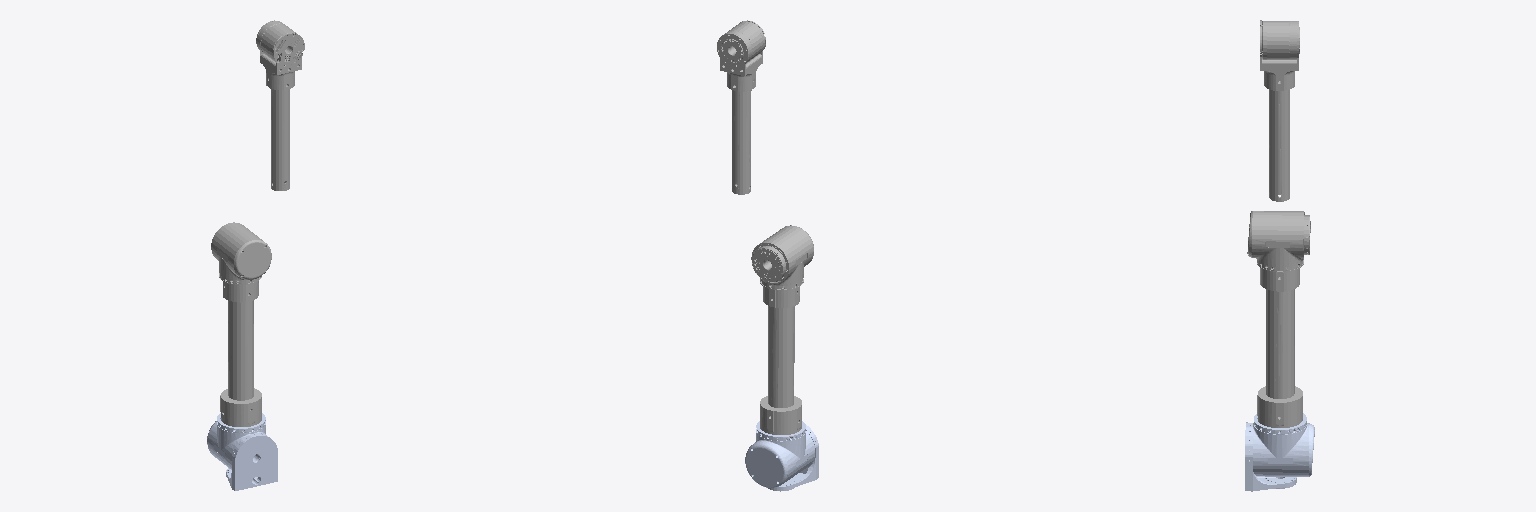
robot.urdf — plex_arm_2:
<?xml version="1.0" encoding="utf-8"?>
<!-- This URDF was automatically created by SolidWorks to URDF Exporter! Originally created by Stephen Brawner (brawner@gmail.com) 
     Commit Version: 1.6.0-4-g7f85cfe  Build Version: 1.6.7995.38578
     For more information, please see http://wiki.ros.org/sw_urdf_exporter -->
<robot
  name="plex_arm_2">
  <link
    name="base_link">
    <inertial>
      <origin
        xyz="0.0013285 -0.0013224 0.037461"
        rpy="0 0 0" />
      <mass
        value="0.39916" />
      <inertia
        ixx="0.00032485"
        ixy="5.025E-08"
        ixz="-2.2819E-07"
        iyy="0.00032522"
        iyz="-1.8676E-07"
        izz="0.00048667" />
    </inertial>
    <visual>
      <origin
        xyz="0 0 0"
        rpy="0 0 0" />
      <geometry>
        <mesh
          filename="package://plex_arm_2/meshes/base_link.STL" />
      </geometry>
      <material
        name="">
        <color
          rgba="0.75294 0.75294 0.75294 1" />
      </material>
    </visual>
    <collision>
      <origin
        xyz="0 0 0"
        rpy="0 0 0" />
      <geometry>
        <mesh
          filename="package://plex_arm_2/meshes/base_link.STL" />
      </geometry>
    </collision>
  </link>
  <link
    name="link_2">
    <inertial>
      <origin
        xyz="6.3613E-05 -0.016265 0.055354"
        rpy="0 0 0" />
      <mass
        value="1.0133" />
      <inertia
        ixx="0.0014695"
        ixy="-6.0098E-08"
        ixz="5.8462E-08"
        iyy="0.0014982"
        iyz="0.00010509"
        izz="0.0013838" />
    </inertial>
    <visual>
      <origin
        xyz="0 0 0"
        rpy="0 0 0" />
      <geometry>
        <mesh
          filename="package://plex_arm_2/meshes/link_2.STL" />
      </geometry>
      <material
        name="">
        <color
          rgba="0.86667 0.9098 1 1" />
      </material>
    </visual>
    <collision>
      <origin
        xyz="0 0 0"
        rpy="0 0 0" />
      <geometry>
        <mesh
          filename="package://plex_arm_2/meshes/link_2.STL" />
      </geometry>
    </collision>
  </link>
  <joint
    name="joint_2"
    type="revolute">
    <origin
      xyz="0.0013509 -0.0013066 0.0641"
      rpy="0 -0.0012835 -0.027488" />
    <parent
      link="base_link" />
    <child
      link="link_2" />
    <axis
      xyz="0.0012835 0 1" />
    <limit
      lower="0"
      upper="0"
      effort="0"
      velocity="0" />
  </joint>
  <link
    name="link_3">
    <inertial>
      <origin
        xyz="0.00048454 0.0020711 -0.10143"
        rpy="0 0 0" />
      <mass
        value="1.3505" />
      <inertia
        ixx="0.0032252"
        ixy="3.0835E-07"
        ixz="9.0245E-06"
        iyy="0.003211"
        iyz="-1.0066E-05"
        izz="0.0013126" />
    </inertial>
    <visual>
      <origin
        xyz="0 0 0"
        rpy="0 0 0" />
      <geometry>
        <mesh
          filename="package://plex_arm_2/meshes/link_3.STL" />
      </geometry>
      <material
        name="">
        <color
          rgba="0.75294 0.75294 0.75294 1" />
      </material>
    </visual>
    <collision>
      <origin
        xyz="0 0 0"
        rpy="0 0 0" />
      <geometry>
        <mesh
          filename="package://plex_arm_2/meshes/link_3.STL" />
      </geometry>
    </collision>
  </link>
  <joint
    name="joint_3"
    type="revolute">
    <origin
      xyz="-0.0011924 0 0.4323"
      rpy="0 0.0012835 0" />
    <parent
      link="link_2" />
    <child
      link="link_3" />
    <axis
      xyz="0 -1 0" />
    <limit
      lower="0"
      upper="0"
      effort="0"
      velocity="0" />
  </joint>
  <link
    name="link_4">
    <inertial>
      <origin
        xyz="-0.010201 0.01352 0.028625"
        rpy="0 0 0" />
      <mass
        value="0.53981" />
      <inertia
        ixx="0.00043641"
        ixy="6.5099E-07"
        ixz="-0.00011755"
        iyy="0.00066866"
        iyz="3.5023E-06"
        izz="0.00061134" />
    </inertial>
    <visual>
      <origin
        xyz="0 0 0"
        rpy="0 0 0" />
      <geometry>
        <mesh
          filename="package://plex_arm_2/meshes/link_4.STL" />
      </geometry>
      <material
        name="">
        <color
          rgba="0.75294 0.75294 0.75294 1" />
      </material>
    </visual>
    <collision>
      <origin
        xyz="0 0 0"
        rpy="0 0 0" />
      <geometry>
        <mesh
          filename="package://plex_arm_2/meshes/link_4.STL" />
      </geometry>
    </collision>
  </link>
  <joint
    name="joint_4"
    type="revolute">
    <origin
      xyz="0.089987 0.0015 0.090304"
      rpy="0 0 0" />
    <parent
      link="link_3" />
    <child
      link="link_4" />
    <axis
      xyz="0 -1 0" />
    <limit
      lower="0"
      upper="0"
      effort="0"
      velocity="0" />
  </joint>
  <link
    name="link_5">
    <inertial>
      <origin
        xyz="-5.2719E-06 0.0036972 -0.068702"
        rpy="0 0 0" />
      <mass
        value="0.56411" />
      <inertia
        ixx="0.0011591"
        ixy="-2.4169E-07"
        ixz="3.1175E-07"
        iyy="0.0011689"
        iyz="4.9596E-07"
        izz="0.00028591" />
    </inertial>
    <visual>
      <origin
        xyz="0 0 0"
        rpy="0 0 0" />
      <geometry>
        <mesh
          filename="package://plex_arm_2/meshes/link_5.STL" />
      </geometry>
      <material
        name="">
        <color
          rgba="0.75294 0.75294 0.75294 1" />
      </material>
    </visual>
    <collision>
      <origin
        xyz="0 0 0"
        rpy="0 0 0" />
      <geometry>
        <mesh
          filename="package://plex_arm_2/meshes/link_5.STL" />
      </geometry>
    </collision>
  </link>
  <joint
    name="joint_5"
    type="revolute">
    <origin
      xyz="-0.00041051 -0.0034488 0.39053"
      rpy="0 0 0" />
    <parent
      link="link_4" />
    <child
      link="link_5" />
    <axis
      xyz="-0.0012835 0 1" />
    <limit
      lower="0"
      upper="0"
      effort="0"
      velocity="0" />
  </joint>
  <link
    name="link_6">
    <inertial>
      <origin
        xyz="-0.028222 -0.0034544 -0.0084206"
        rpy="0 0 0" />
      <mass
        value="0.20707" />
      <inertia
        ixx="7.2186E-05"
        ixy="7.9371E-07"
        ixz="-5.9922E-06"
        iyy="0.00015872"
        iyz="5.479E-08"
        izz="0.00014045" />
    </inertial>
    <visual>
      <origin
        xyz="0 0 0"
        rpy="0 0 0" />
      <geometry>
        <mesh
          filename="package://plex_arm_2/meshes/link_6.STL" />
      </geometry>
      <material
        name="">
        <color
          rgba="0.75294 0.75294 0.75294 1" />
      </material>
    </visual>
    <collision>
      <origin
        xyz="0 0 0"
        rpy="0 0 0" />
      <geometry>
        <mesh
          filename="package://plex_arm_2/meshes/link_6.STL" />
      </geometry>
    </collision>
  </link>
  <joint
    name="joint_6"
    type="revolute">
    <origin
      xyz="0.0049507 0.016857 0.059516"
      rpy="0 0 0" />
    <parent
      link="link_5" />
    <child
      link="link_6" />
    <axis
      xyz="-0.026297 0.99965 -3.3751E-05" />
    <limit
      lower="0"
      upper="0"
      effort="0"
      velocity="0" />
  </joint>
</robot>

--- Facts derived from the render (not from the file) ---
Views: 3 orthographic renders of the robot side by side, from view 1: azimuth 30°, elevation 25°; view 2: azimuth 150°, elevation 25°; view 3: azimuth 270°, elevation 25°.
Model plex_arm_2 with 6 links and 5 joints (5 revolute), rooted at base_link, posed every joint at zero.
Links seen in each view (by area): view 1: link_3, link_5, link_2; view 2: link_3, link_5, link_2; view 3: link_3, link_5, link_2.
Link boxes in pixels (box(x1,y1,x2,y2)): link_3: box(211, 222, 271, 430); link_5: box(256, 20, 304, 190); link_2: box(207, 413, 277, 490); link_3: box(751, 225, 813, 438); link_5: box(717, 20, 765, 194); link_2: box(745, 421, 818, 491); link_3: box(1247, 211, 1310, 431); link_5: box(1260, 20, 1299, 201); link_2: box(1245, 413, 1314, 491).
Bounding box of the posed robot: 0.1725 × 0.1253 × 0.9481 m (x, y, z).
Meshes: 6 distinct files referenced, 3 mesh visuals loaded (3 binary STL); not drawn: 3 (reference not matched to a file when rendering).
